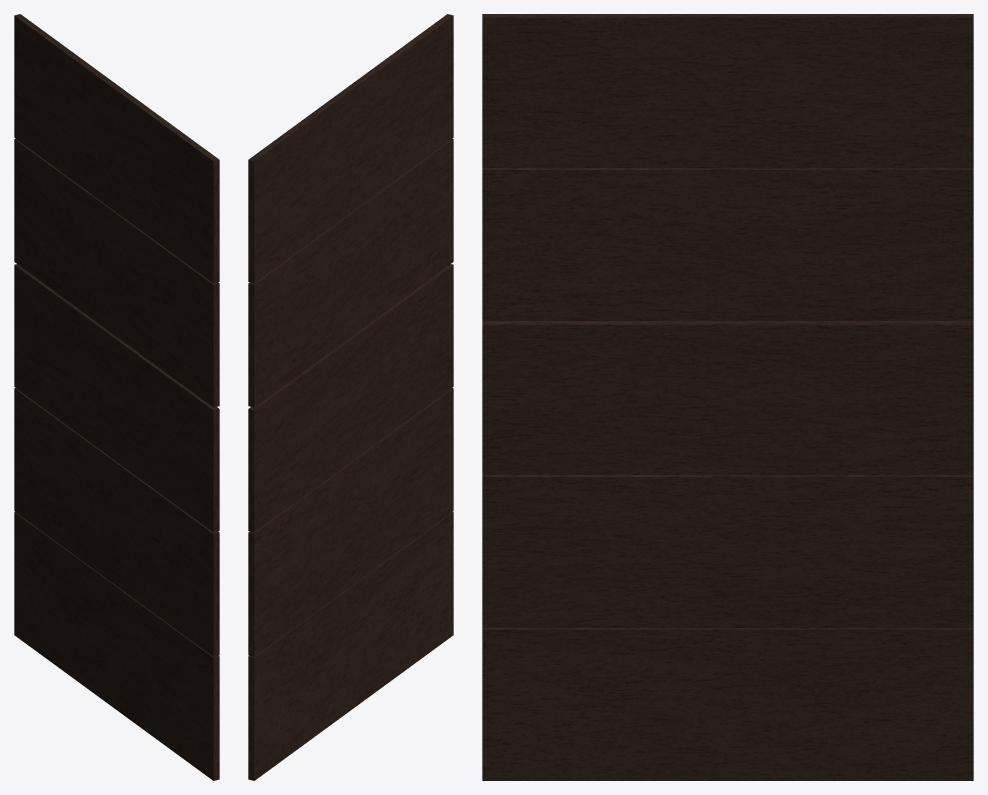
File: left_wall_panel.glb
The picture shows the model from 3 angles, left to right: view 1: azimuth 30°, elevation 25°; view 2: azimuth 150°, elevation 25°; view 3: azimuth 270°, elevation 25°; orthographic projection. The views are drawn at different scales.
Parts seen in each view (by area): view 1: Left Wall Panel; view 2: Left Wall Panel; view 3: Left Wall Panel.
Part boxes in pixels (<box>): Left Wall Panel: <box>14,14,219,780</box>; Left Wall Panel: <box>248,14,453,780</box>; Left Wall Panel: <box>482,14,973,780</box>.
Size of the model in its own units: 0.0214 by 2.02 by 1.18.
1 material, 1 textured.
